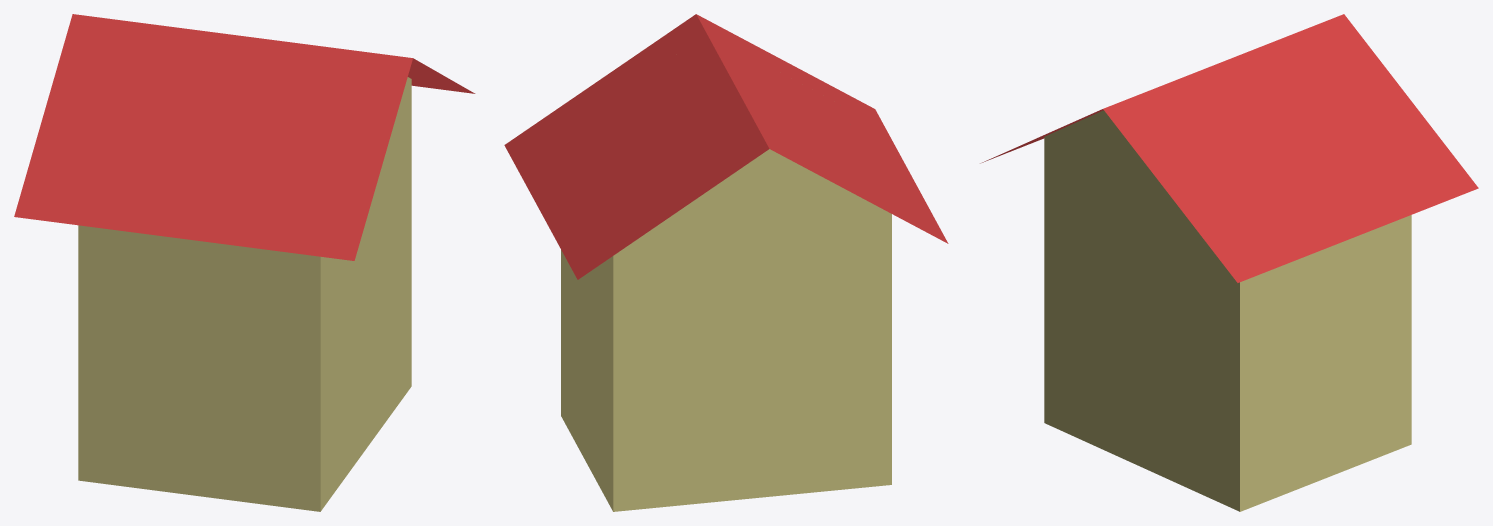
3 renders of one model, left to right at view 1: azimuth 30°, elevation 25°; view 2: azimuth 150°, elevation 25°; view 3: azimuth 270°, elevation 25°, orthographic. The views are drawn at different scales.
Visible parts, largest first — view 1: group_5, group_3, group_4; view 2: group_5, group_3, group_4; view 3: group_5, group_3, group_4.
Part boxes in pixels (bbox=[...]): group_5: bbox=[78, 77, 411, 511]; group_3: bbox=[14, 14, 412, 260]; group_4: bbox=[73, 14, 475, 260]; group_5: bbox=[561, 149, 891, 511]; group_3: bbox=[504, 14, 948, 279]; group_4: bbox=[664, 14, 874, 148]; group_5: bbox=[1044, 110, 1411, 511]; group_3: bbox=[982, 14, 1478, 282]; group_4: bbox=[987, 95, 1167, 160].
Size of the model in its own units: 15.92 by 15.83 by 12.89.
